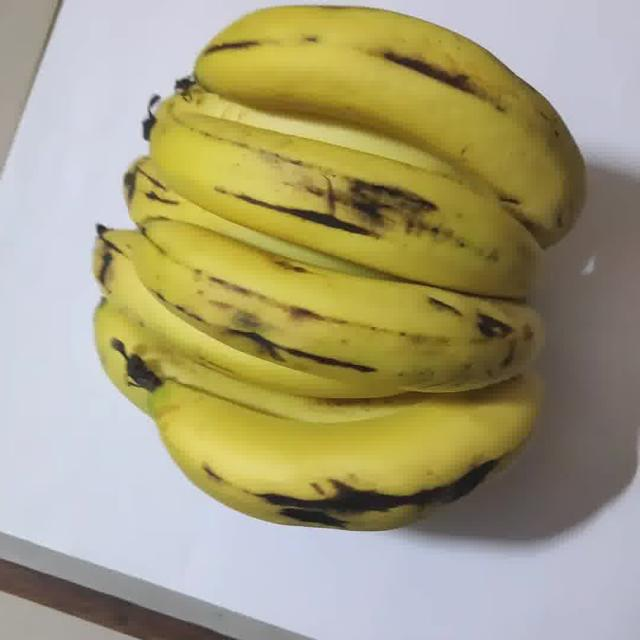banana_pacche: (29, 0, 628, 600)
